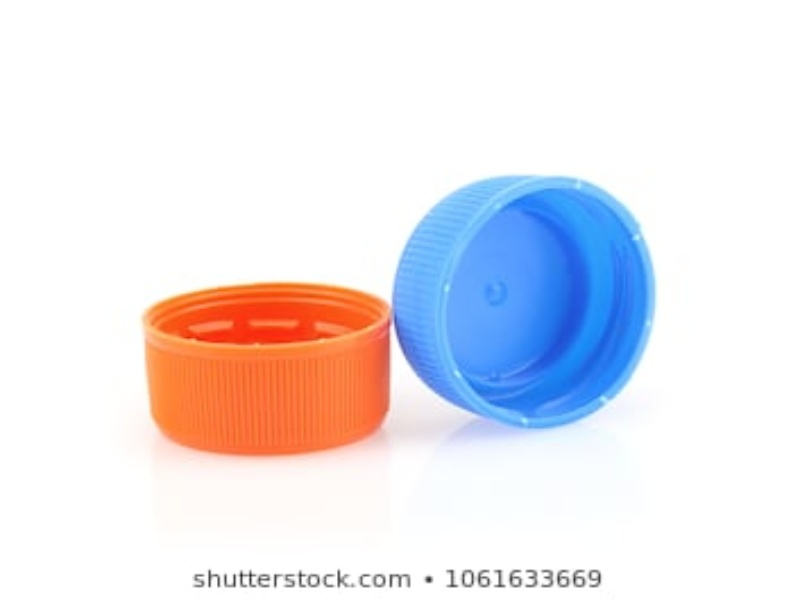bottle-cap: (391, 174, 654, 433), (132, 283, 396, 460)
